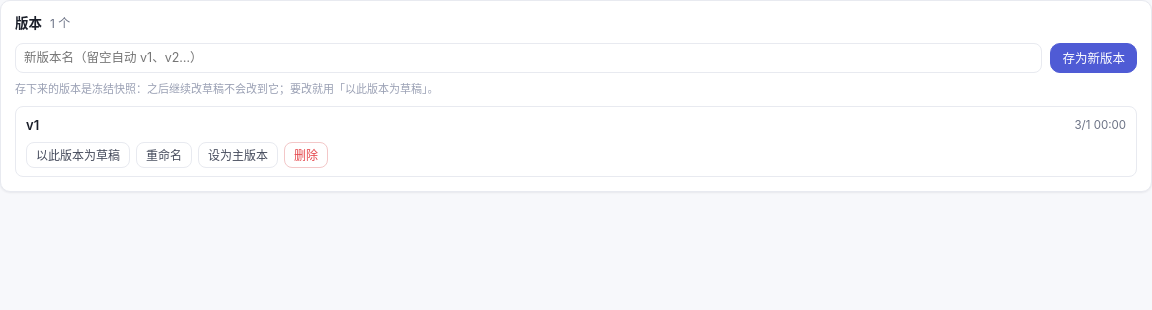
Scenario: VersionMenu（jsdom） › 删除没被引用的版本也要说清楚「没有投递绑在这一版上」
What coordinates should you click on to do the following:
click the button "删除"
I would click on:
 (306, 155)
Its box is [284,142,328,168].
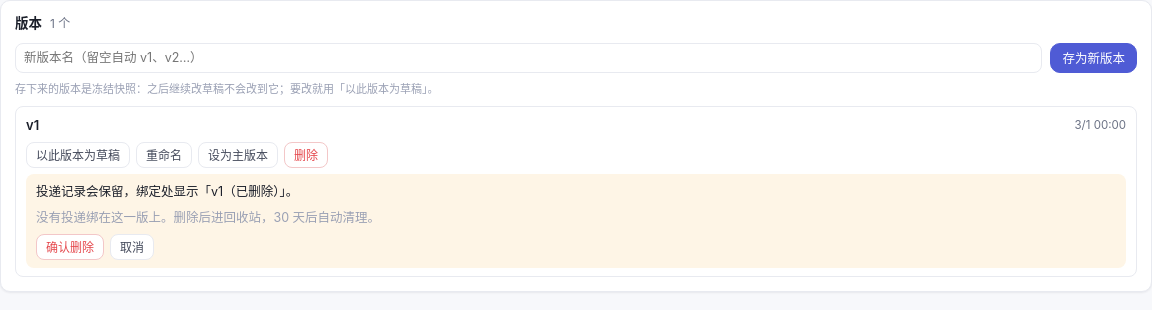
Expected: the element that starts with "投递记录会保留，绑定处显示「" shows "没有投递绑在这一版上", [36,210,380,225]
